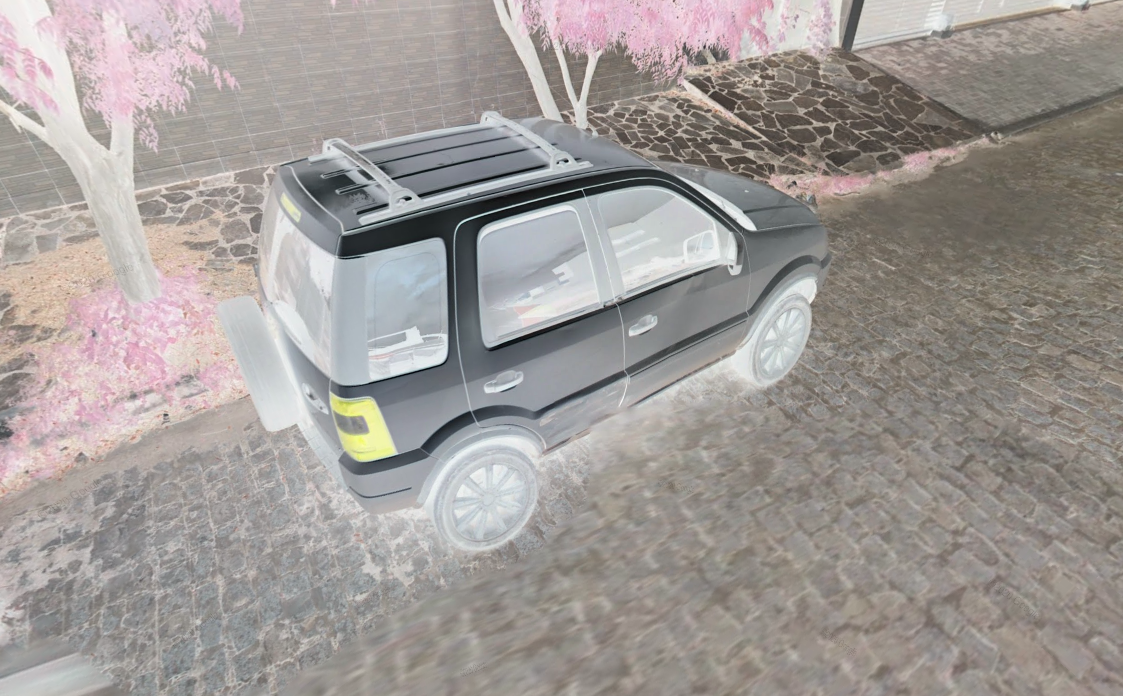car: (209, 109, 836, 563)
